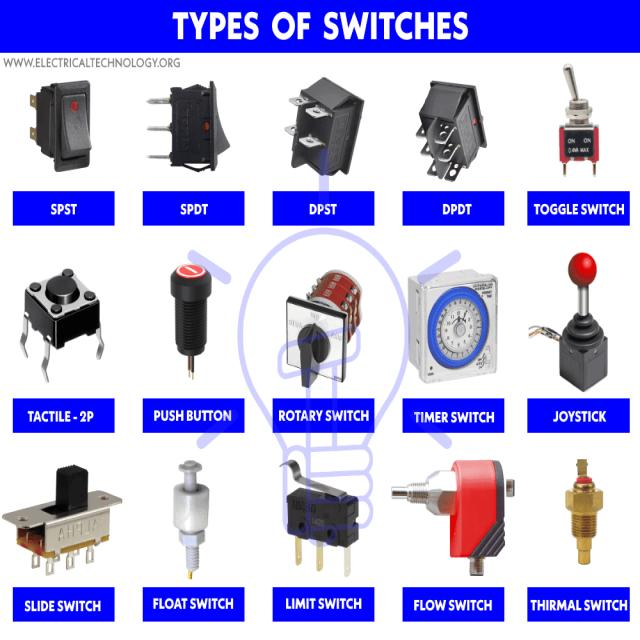Push button: (17, 268, 107, 382), (170, 266, 214, 382), (173, 460, 208, 581)
switch: (1, 464, 124, 576), (409, 456, 512, 574), (410, 271, 498, 384), (284, 270, 364, 394), (279, 456, 358, 576), (546, 250, 611, 391), (144, 80, 232, 173), (547, 44, 605, 181), (285, 78, 359, 178), (414, 81, 481, 183), (34, 80, 94, 184), (565, 453, 602, 567)
